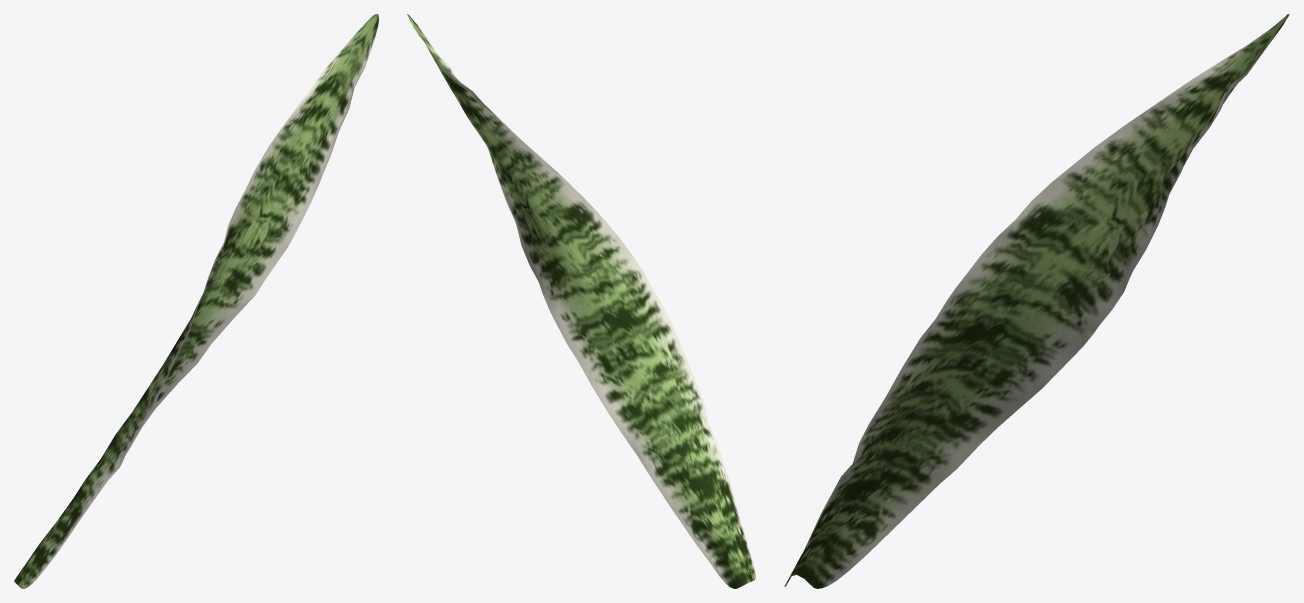
3 renders of one model, left to right at view 1: azimuth 30°, elevation 25°; view 2: azimuth 150°, elevation 25°; view 3: azimuth 330°, elevation 25°, orthographic. The views are drawn at different scales.
Parts seen in each view (by area): view 1: sansevieriaplant.014; view 2: sansevieriaplant.014; view 3: sansevieriaplant.014.
Boxes of the visible parts, left/top/right/bottom form: sansevieriaplant.014: left=14, top=14, right=378, bottom=588; sansevieriaplant.014: left=407, top=14, right=755, bottom=588; sansevieriaplant.014: left=784, top=14, right=1289, bottom=588.
Size of the model in its own units: 0.914 by 1.21 by 0.1806.
Materials: 1 (1 with a texture image).
